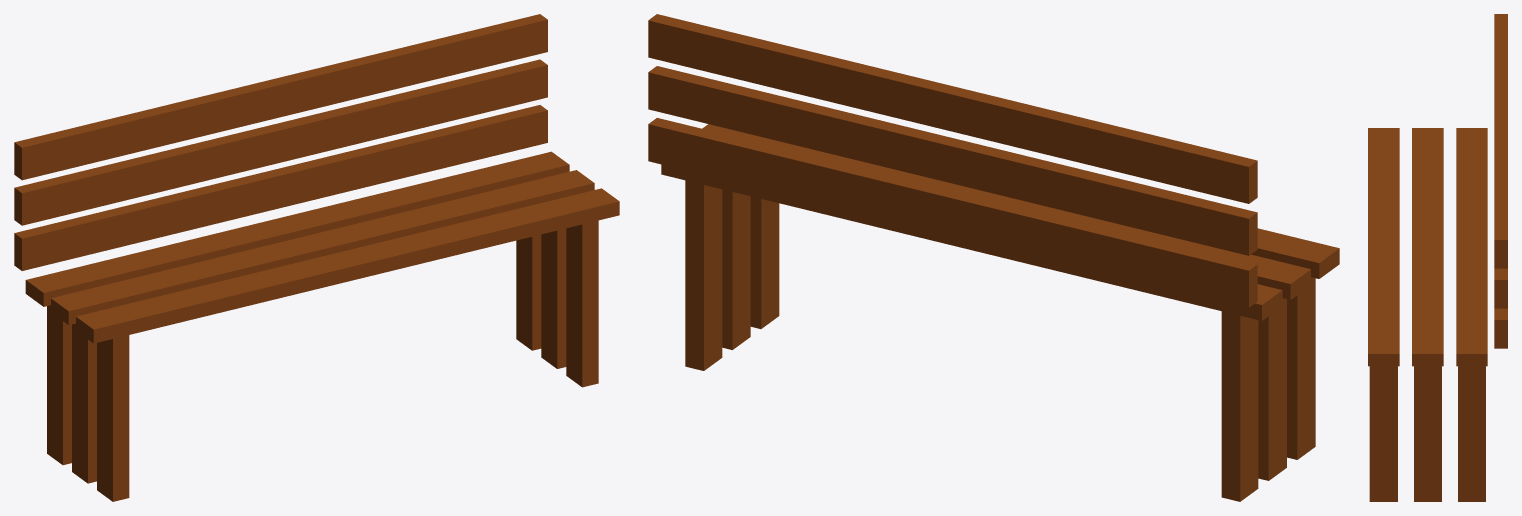
The model's file is Banc.glb.
3 renders of one model, left to right at view 1: azimuth 30°, elevation 25°; view 2: azimuth 150°, elevation 25°; view 3: azimuth 270°, elevation 25°, orthographic. The views are drawn at different scales.
Parts seen in each view (by area): view 1: Banc_assise, Banc_dossier; view 2: Banc_dossier, Banc_assise; view 3: Banc_assise, Banc_dossier.
Part boxes in pixels (x1,y1,x2,y2): Banc_assise: (25, 151, 619, 501); Banc_dossier: (14, 14, 547, 270); Banc_dossier: (648, 14, 1257, 307); Banc_assise: (661, 124, 1339, 501); Banc_assise: (1368, 128, 1487, 501); Banc_dossier: (1494, 14, 1507, 348).
Bounding box in the file's own units: 1.83 × 1.02 × 0.479.
Materials: 1 (1 with a texture image).
